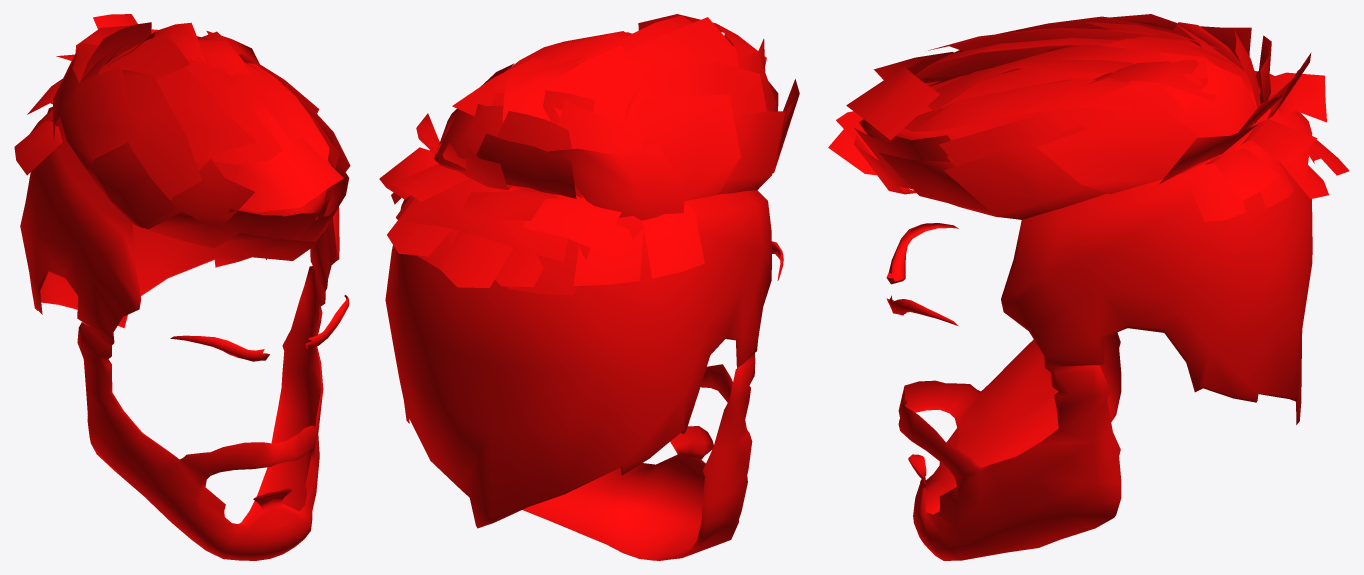
File: Hair_01.FBX
3 views of the same model, side by side, from view 1: azimuth 30°, elevation 25°; view 2: azimuth 150°, elevation 25°; view 3: azimuth 270°, elevation 25° (orthographic). The views are drawn at different scales.
Visible parts, largest first — view 1: hair_01_LOD0, Object003; view 2: hair_01_LOD0, Object003; view 3: hair_01_LOD0, Object003.
Part boxes in pixels (bbox=[...]): hair_01_LOD0: bbox=[14, 14, 350, 342]; Object003: bbox=[77, 266, 349, 560]; hair_01_LOD0: bbox=[379, 14, 799, 528]; Object003: bbox=[522, 241, 783, 560]; hair_01_LOD0: bbox=[828, 14, 1349, 424]; Object003: bbox=[886, 223, 1121, 560].
Bounding box in the file's own units: 15.48 × 26.42 × 24.12.
